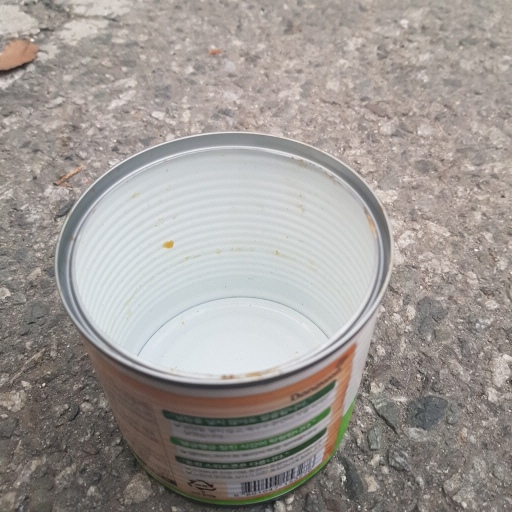Metal_1: (49, 131, 393, 501)
